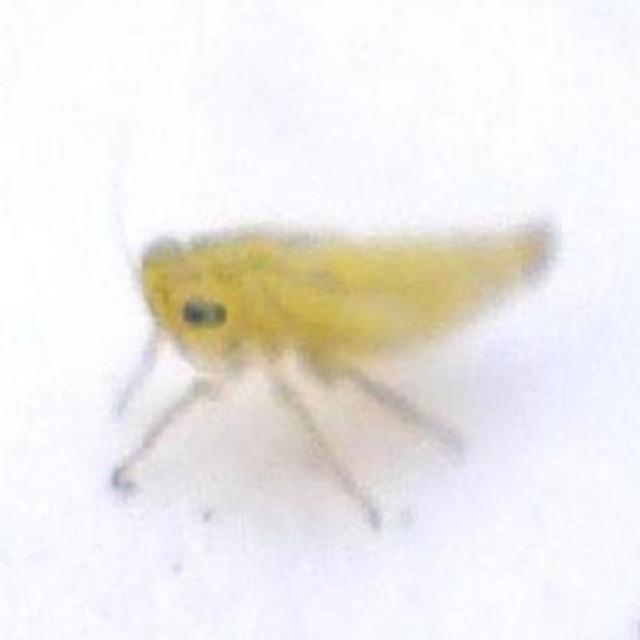green-leafhopper: (128, 220, 554, 403)
